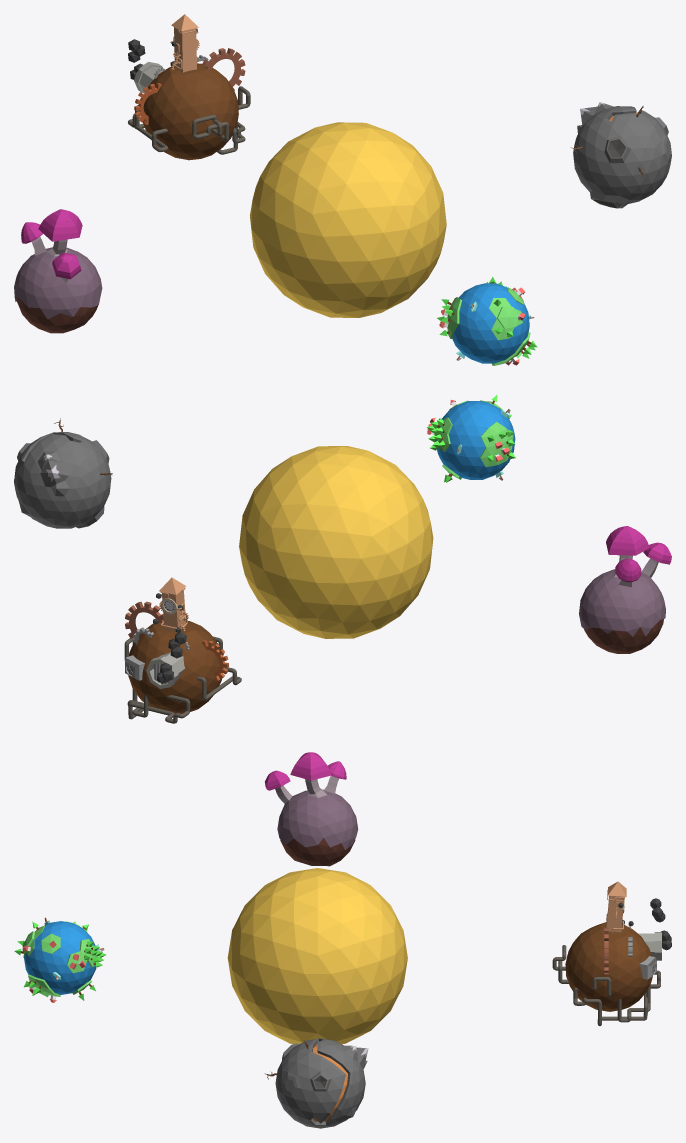
File: Solar-Bx__urZy.glb
The picture shows the model from 3 angles, top to bottom: view 1: azimuth 30°, elevation 25°; view 2: azimuth 150°, elevation 25°; view 3: azimuth 270°, elevation 25°; orthographic projection. The views are drawn at different scales.
Visible parts, largest first — view 1: Icosphere.001, Icosphere, Icosphere.006, Icosphere.003, Icosphere.002, Vert.002, Cube, Gear.004; view 2: Icosphere.001, Icosphere, Icosphere.006, Icosphere.002, Icosphere.003, Vert.002, Cube, Cylinder, Icosphere.004, Gear.004; view 3: Icosphere.001, Icosphere.006, Icosphere, Icosphere.003, Icosphere.002, Vert.002, Cube.
Part boxes in pixels (x1=…): Icosphere.001: x1=250, y1=122, x2=446, y2=317; Icosphere: x1=573, y1=102, x2=671, y2=208; Icosphere.006: x1=14, y1=209, x2=102, y2=333; Icosphere.003: x1=142, y1=63, x2=238, y2=160; Icosphere.002: x1=437, y1=277, x2=537, y2=365; Vert.002: x1=128, y1=86, x2=250, y2=154; Cube: x1=170, y1=14, x2=199, y2=72; Gear.004: x1=202, y1=48, x2=245, y2=90; Icosphere.001: x1=239, y1=446, x2=433, y2=638; Icosphere: x1=14, y1=432, x2=111, y2=528; Icosphere.006: x1=579, y1=526, x2=671, y2=653; Icosphere.002: x1=427, y1=395, x2=515, y2=482; Icosphere.003: x1=128, y1=620, x2=222, y2=713; Vert.002: x1=124, y1=636, x2=241, y2=723; Cube: x1=159, y1=577, x2=188, y2=632; Cylinder: x1=146, y1=652, x2=185, y2=688; Icosphere.004: x1=156, y1=632, x2=186, y2=683; Gear.004: x1=125, y1=601, x2=163, y2=638; Icosphere.001: x1=227, y1=868, x2=407, y2=1044; Icosphere.006: x1=265, y1=752, x2=358, y2=866; Icosphere: x1=275, y1=1038, x2=368, y2=1128; Icosphere.003: x1=565, y1=922, x2=652, y2=1011; Icosphere.002: x1=14, y1=917, x2=106, y2=1002; Vert.002: x1=552, y1=945, x2=660, y2=1025; Cube: x1=606, y1=881, x2=626, y2=933.
Size of the model in its own units: 43.1 by 11.41 by 41.65.
Materials: 59 (42 with a texture image).
